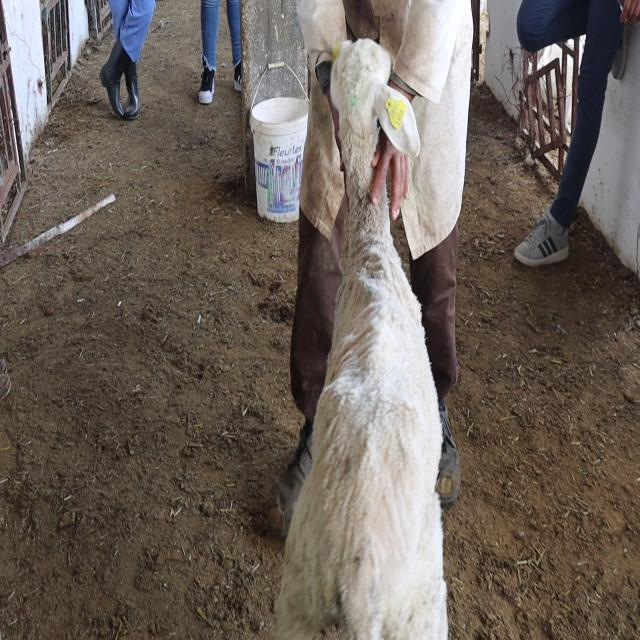Score_1: (275, 39, 448, 639)
